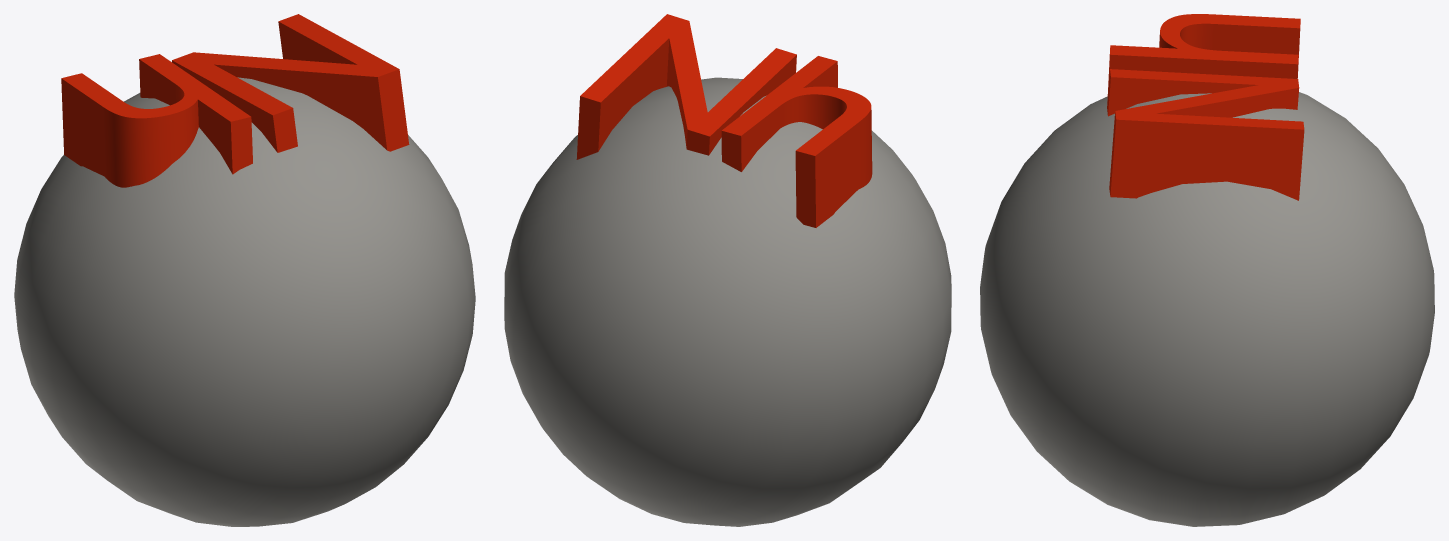
The picture shows the model from 3 angles, left to right: view 1: azimuth 30°, elevation 25°; view 2: azimuth 150°, elevation 25°; view 3: azimuth 270°, elevation 25°; orthographic projection. The views are drawn at different scales.
Visible parts, largest first — view 1: Hf001, Object007, Object006; view 2: Hf001, Object007, Object006; view 3: Hf001, Object006, Object007.
Boxes of the visible parts, x1=… form: Hf001: x1=14, y1=77, x2=475, y2=526; Object007: x1=61, y1=54, x2=252, y2=187; Object006: x1=172, y1=14, x2=409, y2=152; Hf001: x1=504, y1=77, x2=951, y2=526; Object007: x1=721, y1=56, x2=872, y2=227; Object006: x1=576, y1=14, x2=796, y2=159; Hf001: x1=980, y1=92, x2=1434, y2=526; Object006: x1=1107, y1=69, x2=1304, y2=200; Object007: x1=1107, y1=14, x2=1300, y2=96.
Size of the model in its own units: 38.69 by 41.07 by 38.6.
